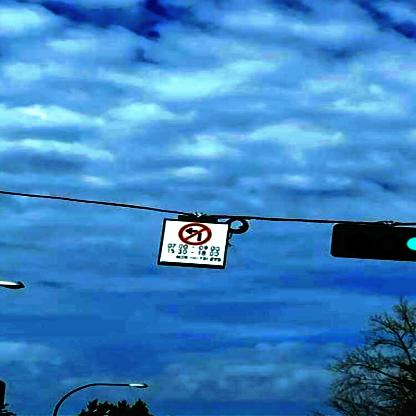No left turn: (176, 218, 214, 244)
